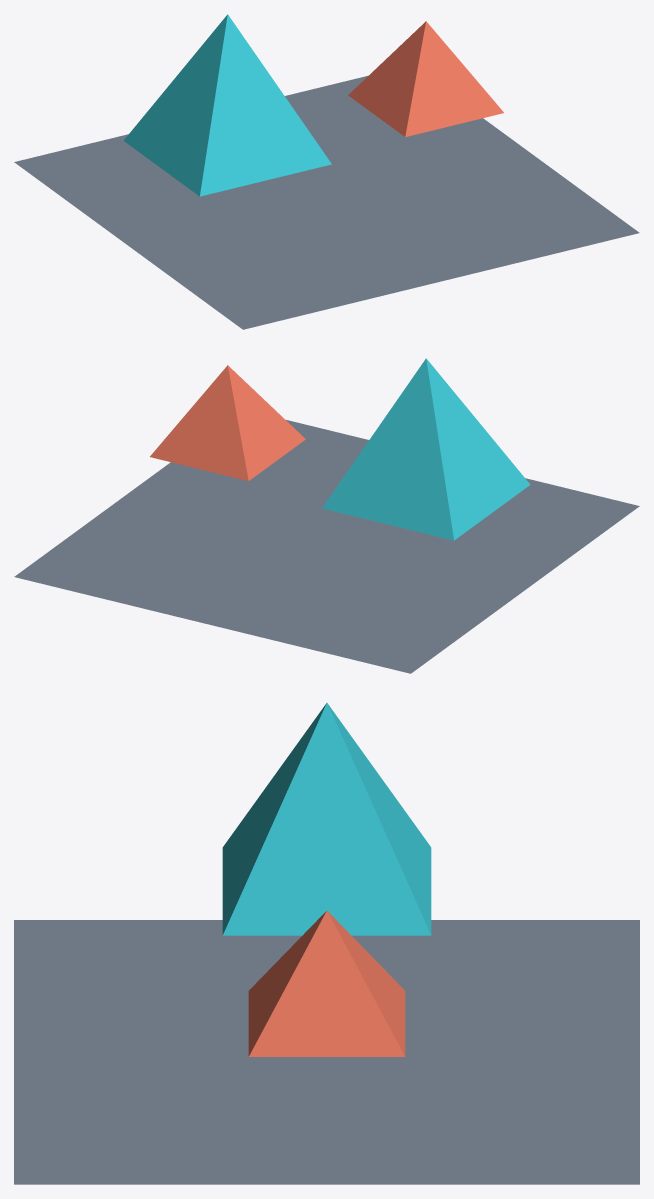
The model's file is SceneEmbedded.gltf.
3 views of the same model, one above another, from view 1: azimuth 30°, elevation 25°; view 2: azimuth 150°, elevation 25°; view 3: azimuth 270°, elevation 25° (orthographic). The views are drawn at different scales.
Parts seen in each view (by area): view 1: Floor, Cyan pyramid, Mirrored coral pyramid; view 2: Floor, Cyan pyramid, Mirrored coral pyramid; view 3: Floor, Cyan pyramid, Mirrored coral pyramid.
Boxes of the visible parts, x1=… form: Floor: x1=14, y1=76, x2=639, y2=329; Cyan pyramid: x1=123, y1=14, x2=331, y2=196; Mirrored coral pyramid: x1=348, y1=21, x2=503, y2=136; Floor: x1=14, y1=420, x2=639, y2=673; Cyan pyramid: x1=322, y1=358, x2=530, y2=540; Mirrored coral pyramid: x1=150, y1=365, x2=305, y2=480; Floor: x1=14, y1=920, x2=639, y2=1184; Cyan pyramid: x1=222, y1=703, x2=431, y2=935; Mirrored coral pyramid: x1=248, y1=911, x2=405, y2=1056.
Bounding box in the file's own units: 6 × 3 × 6.
